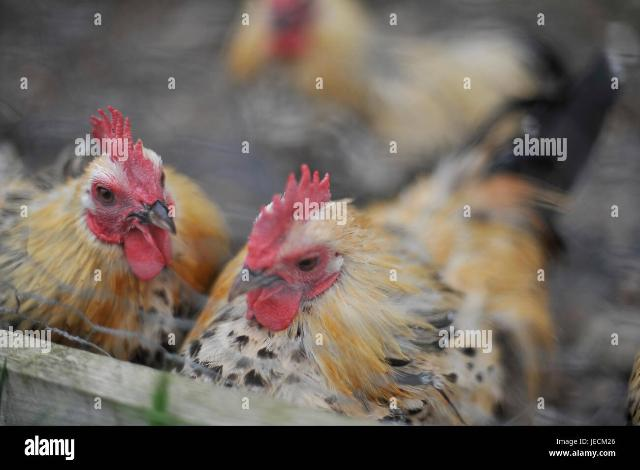Chicken: (175, 52, 620, 430), (2, 107, 236, 367)
